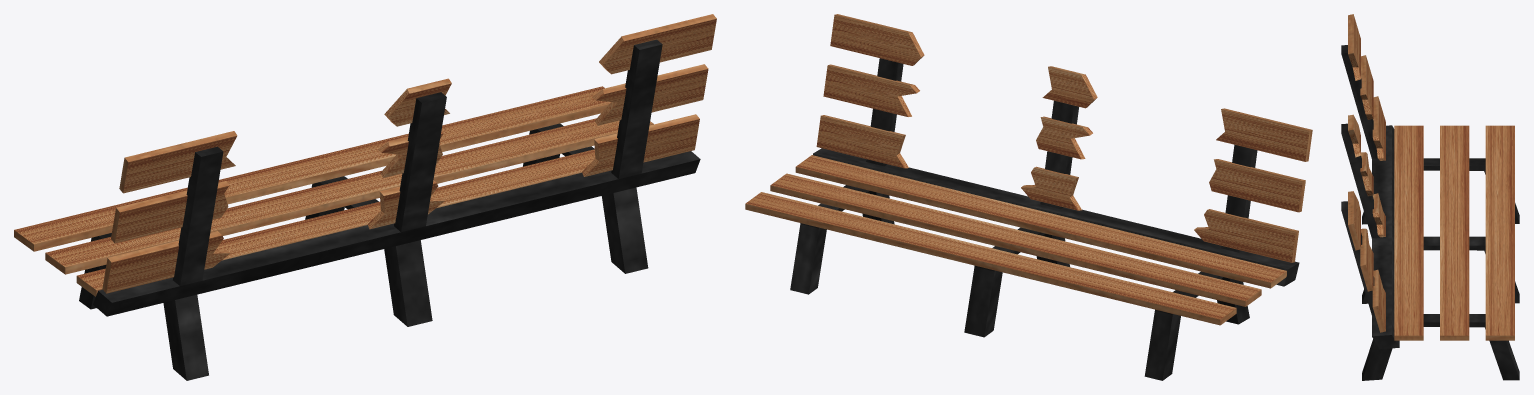
Rendered from yizi1.FBX.
3 views of the same model, side by side, from view 1: azimuth 30°, elevation 25°; view 2: azimuth 150°, elevation 25°; view 3: azimuth 270°, elevation 25° (orthographic). The views are drawn at different scales.
Parts seen in each view (by area): view 1: Box017; view 2: Box017; view 3: Box017.
Part boxes in pixels (<box>): Box017: <box>14,14,716,380</box>; Box017: <box>745,14,1312,380</box>; Box017: <box>1341,14,1519,380</box>.
Size of the model in its own units: 170 by 67.41 by 61.21.
